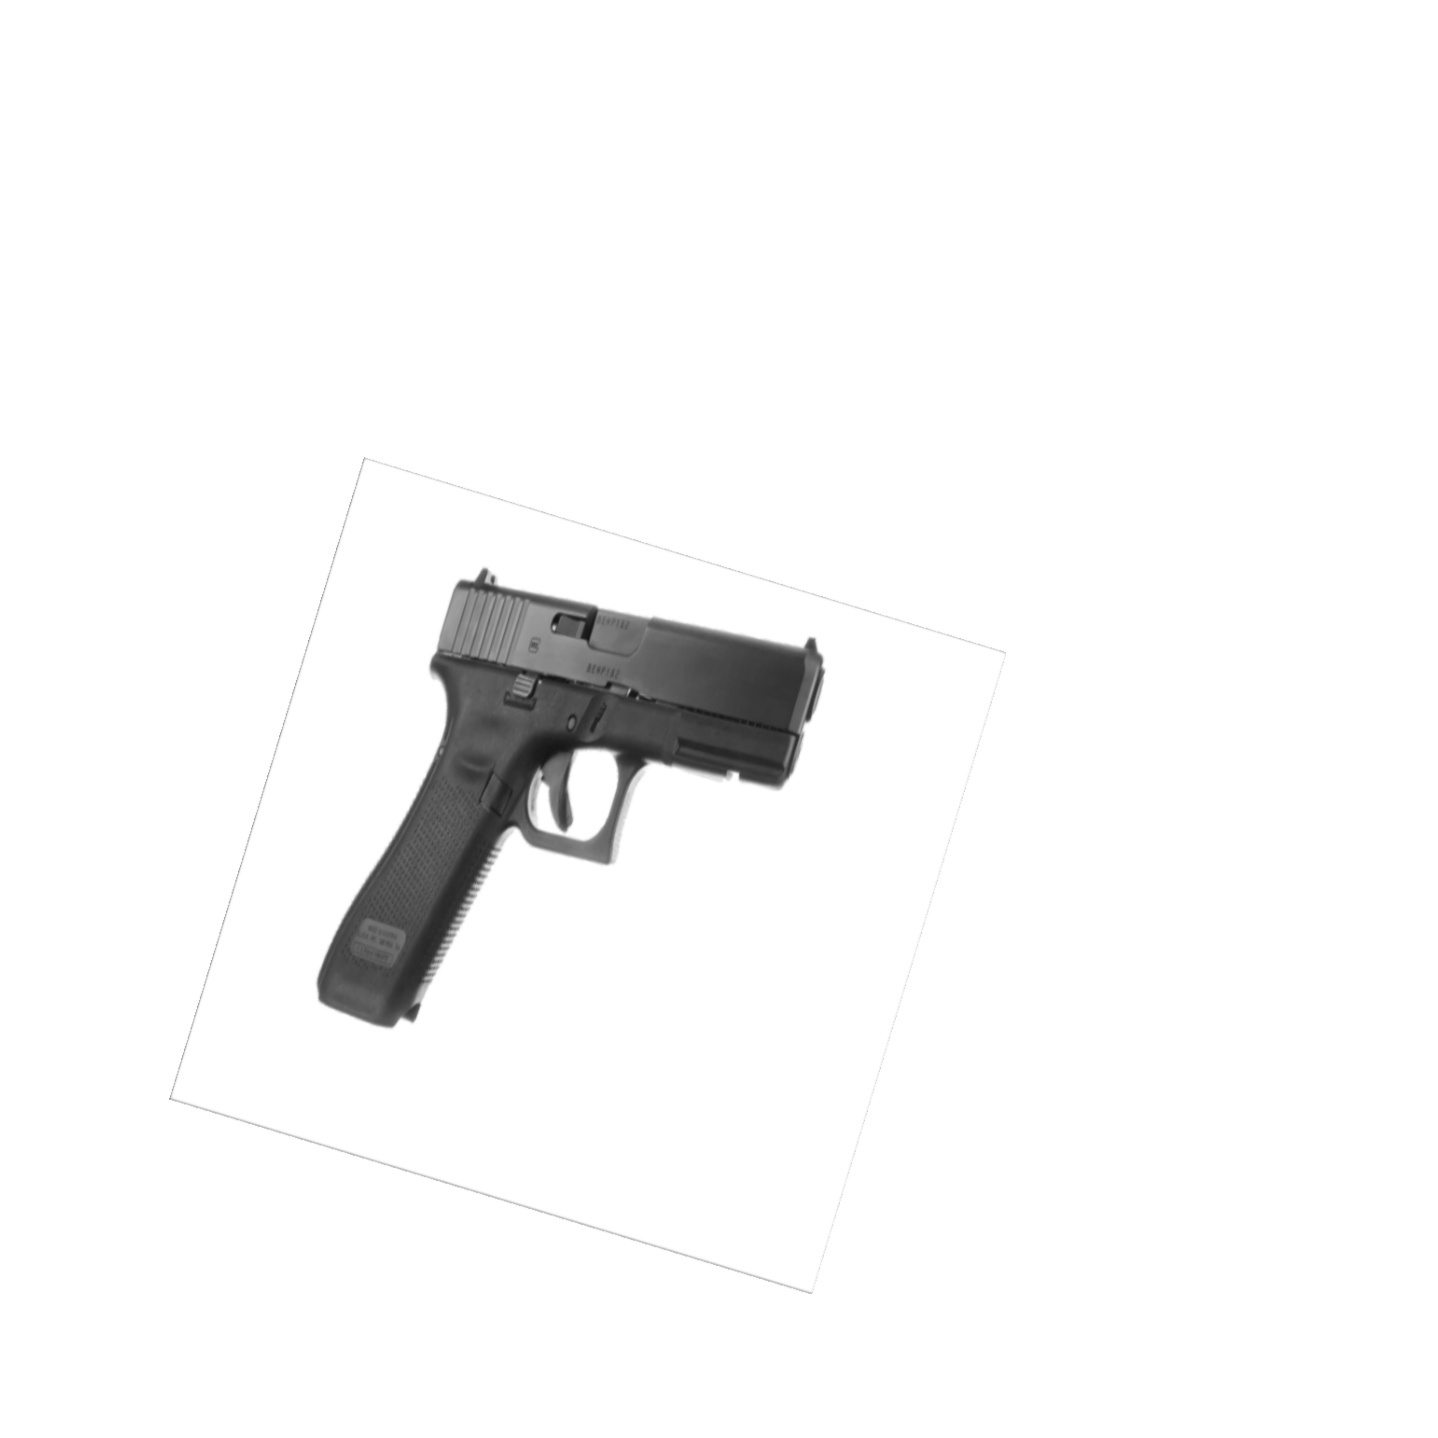gun: (306, 558, 834, 1034)
